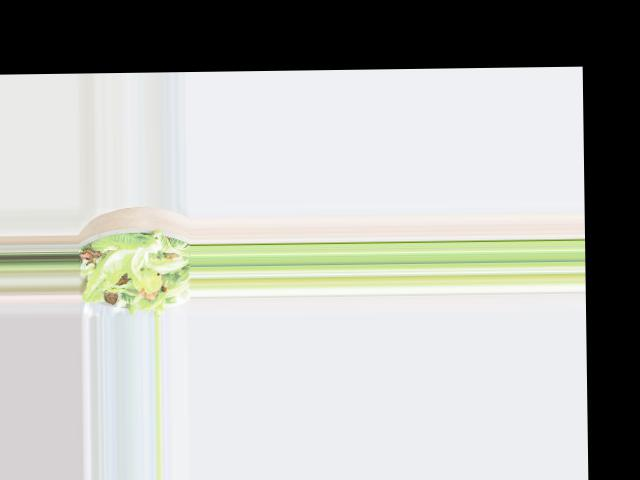lettuce: (89, 231, 184, 310)
